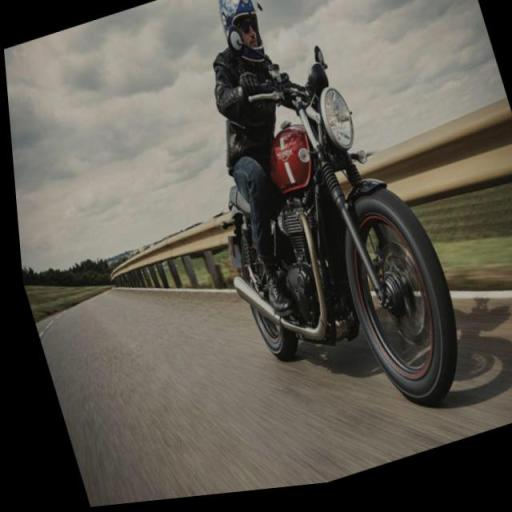Helmet: (201, 0, 280, 85)
Motor: (168, 30, 490, 480)
